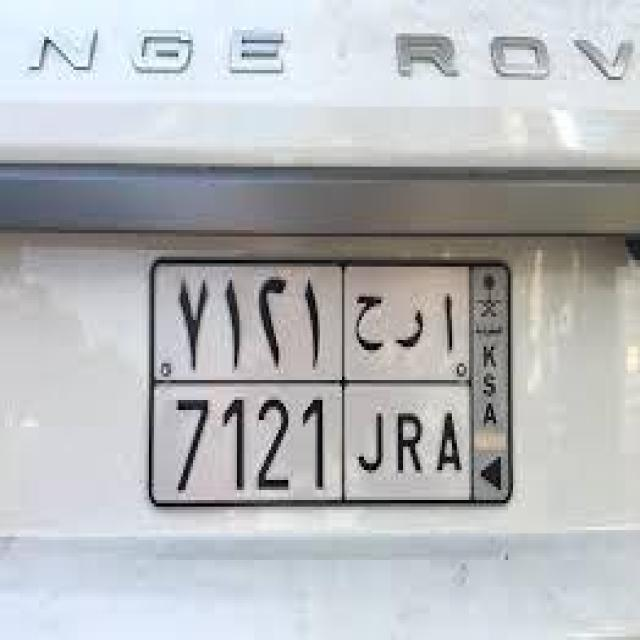license_plate: (108, 226, 510, 546)
